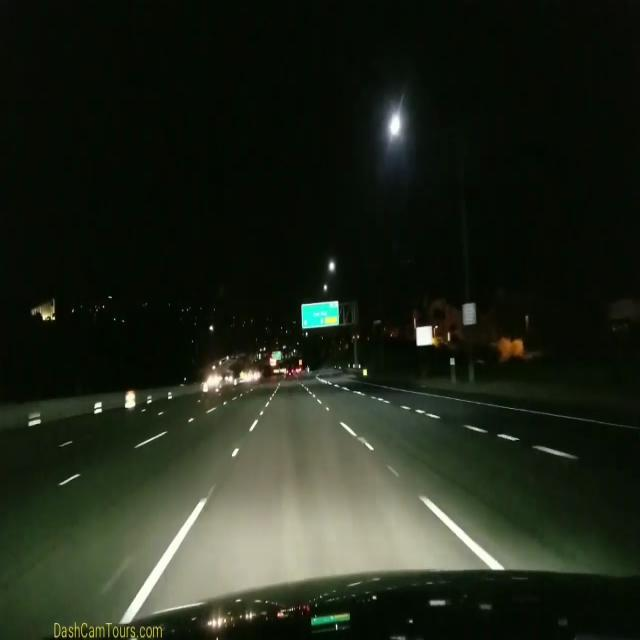street-signs: (302, 300, 339, 330), (272, 350, 281, 361)
